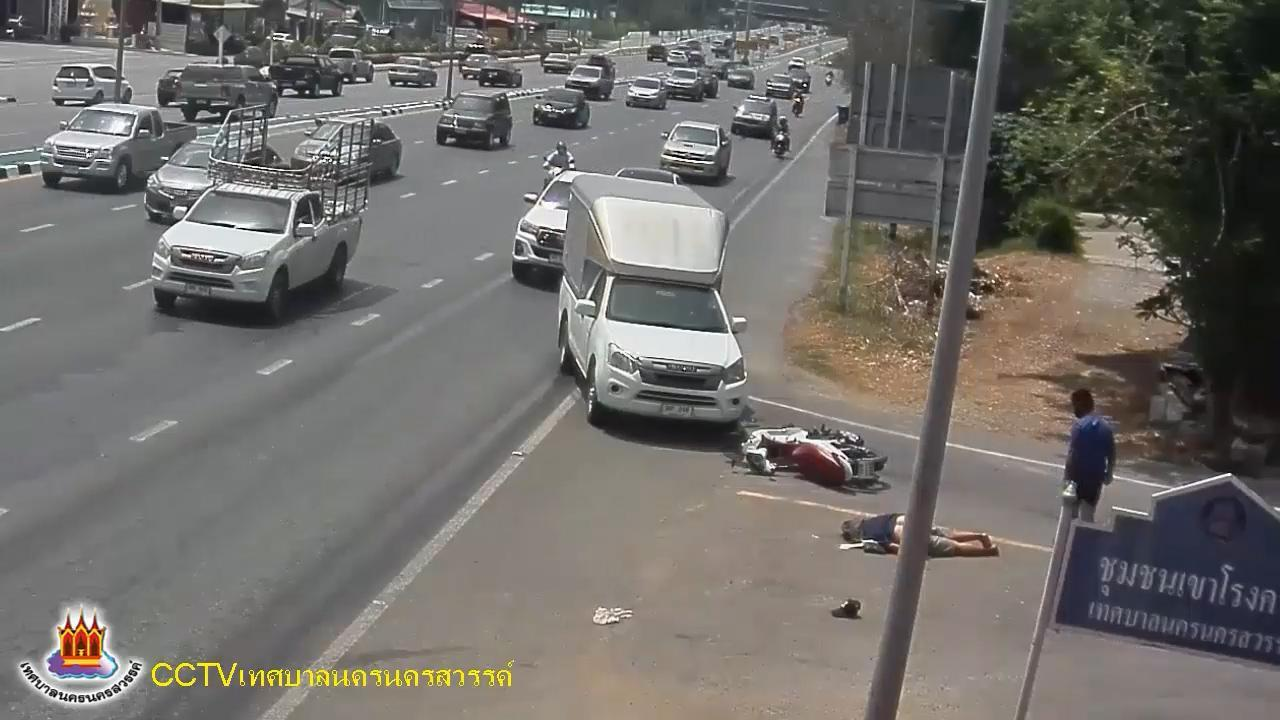accident: (839, 506, 1002, 565)
